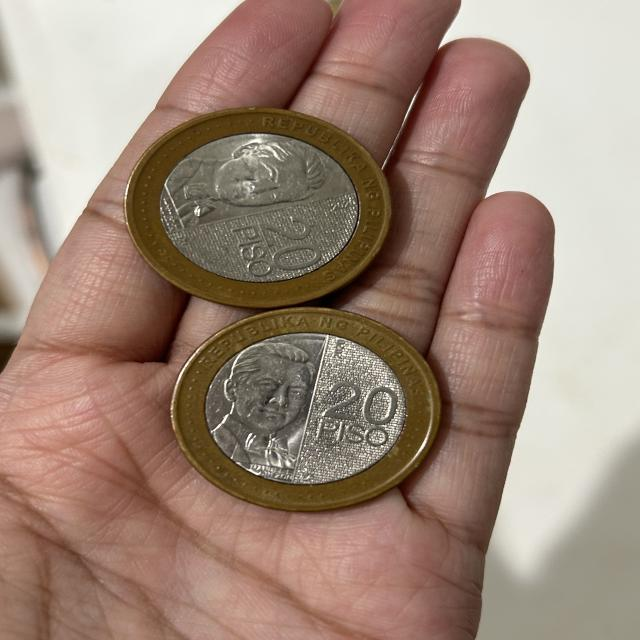20_New_Front: (312, 370, 403, 454), (223, 220, 324, 276)
